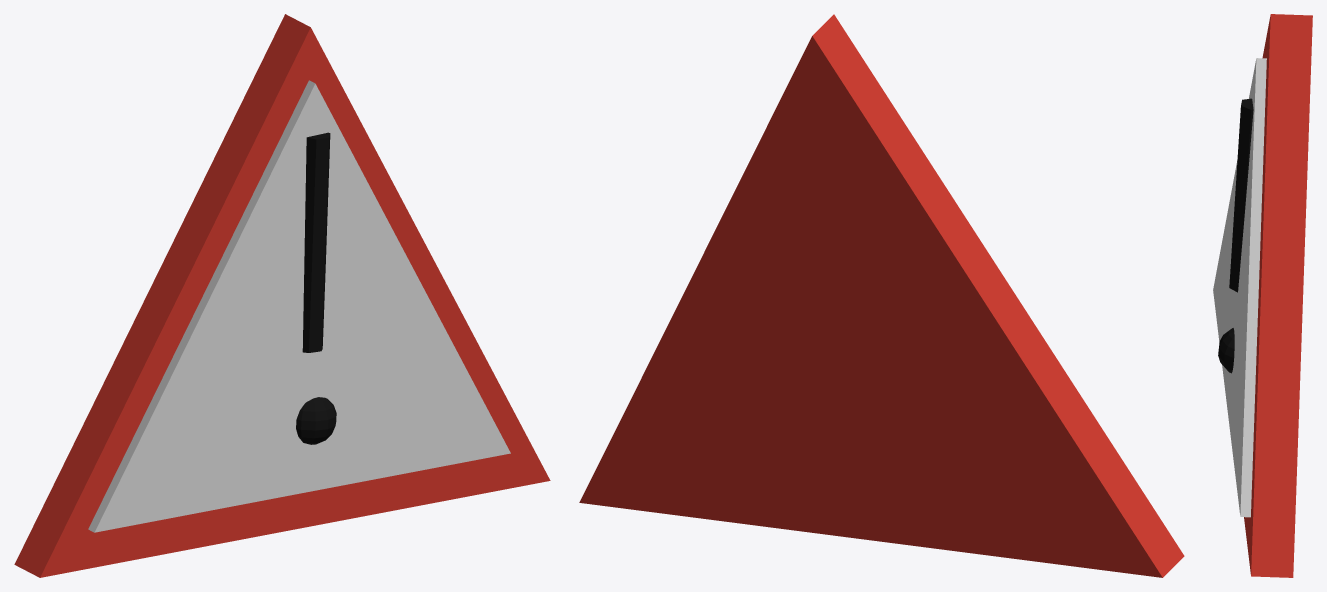
3 renders of one model, left to right at view 1: azimuth 30°, elevation 25°; view 2: azimuth 150°, elevation 25°; view 3: azimuth 270°, elevation 25°, orthographic. The views are drawn at different scales.
Parts seen in each view (by area): view 1: node_MeshObject-25188288-PolyPaper23; view 2: node_MeshObject-25188288-PolyPaper23; view 3: node_MeshObject-25188288-PolyPaper23.
Boxes of the visible parts, x1=… form: node_MeshObject-25188288-PolyPaper23: x1=14, y1=14, x2=550, y2=577; node_MeshObject-25188288-PolyPaper23: x1=579, y1=14, x2=1184, y2=577; node_MeshObject-25188288-PolyPaper23: x1=1213, y1=14, x2=1312, y2=577.
Size of the model in its own units: 0.2236 by 0.2028 by 0.0397.
